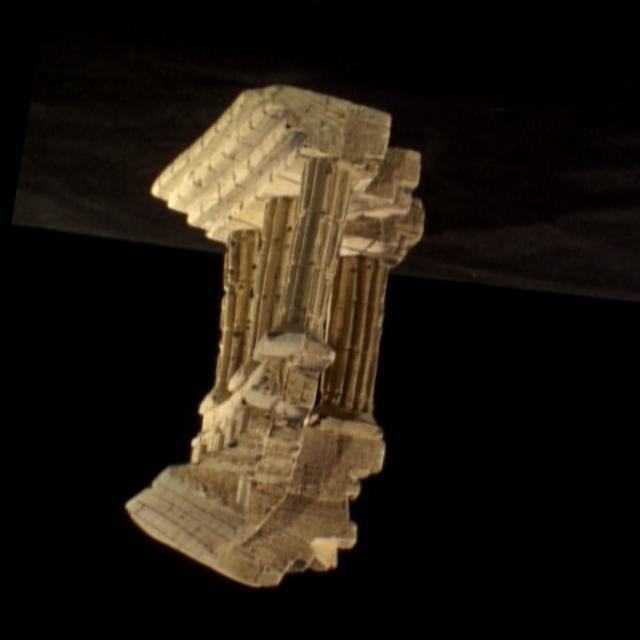Instance-Segmentation: (126, 85, 423, 585)
